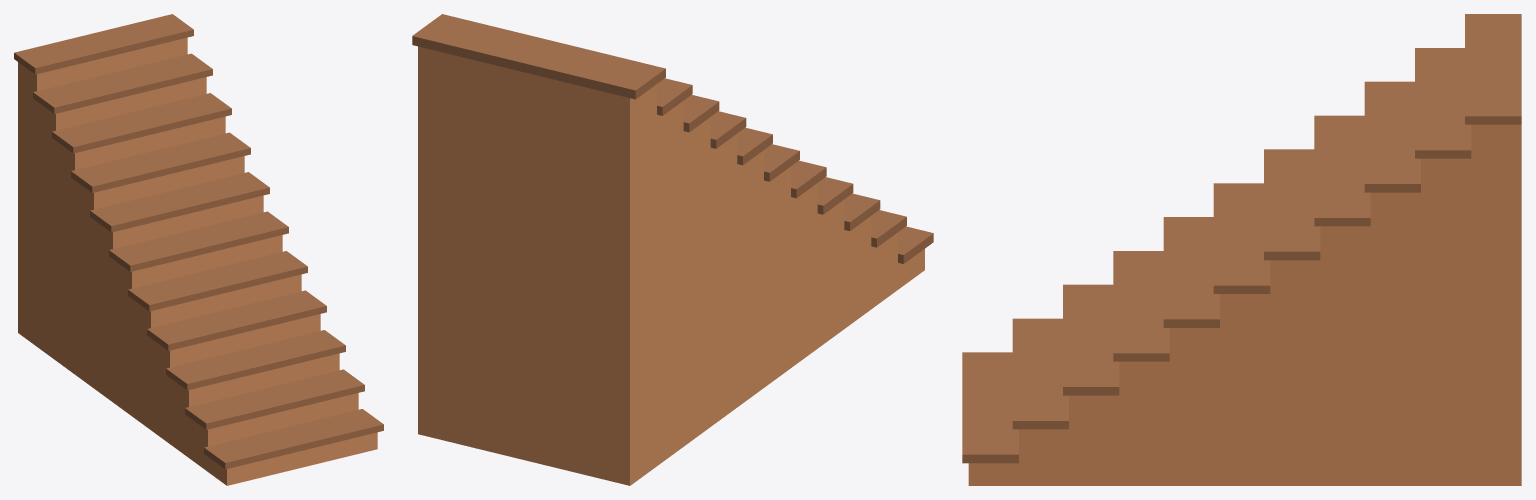
The model's file is Stairs.fbx.
3 renders of one model, left to right at view 1: azimuth 30°, elevation 25°; view 2: azimuth 150°, elevation 25°; view 3: azimuth 270°, elevation 25°, orthographic. The views are drawn at different scales.
Parts seen in each view (by area): view 1: stairs; view 2: stairs; view 3: stairs.
Part boxes in pixels (x1,y1,x2,y2): stairs: [14, 14, 383, 485]; stairs: [412, 14, 933, 485]; stairs: [962, 14, 1521, 485].
Size of the model in its own units: 7.9 by 13.4 by 18.23.
